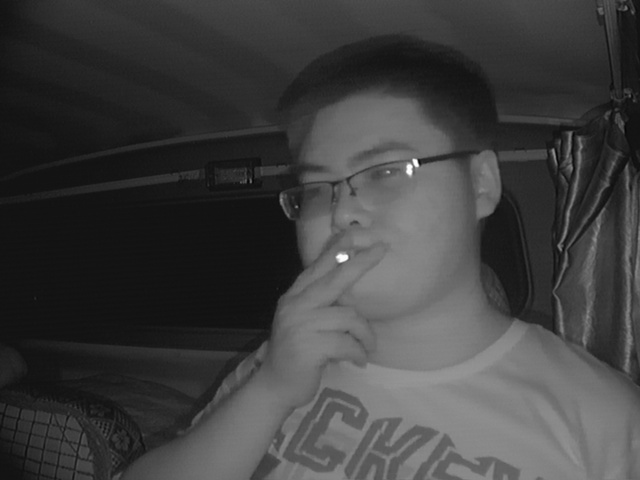hand: (268, 230, 382, 390)
